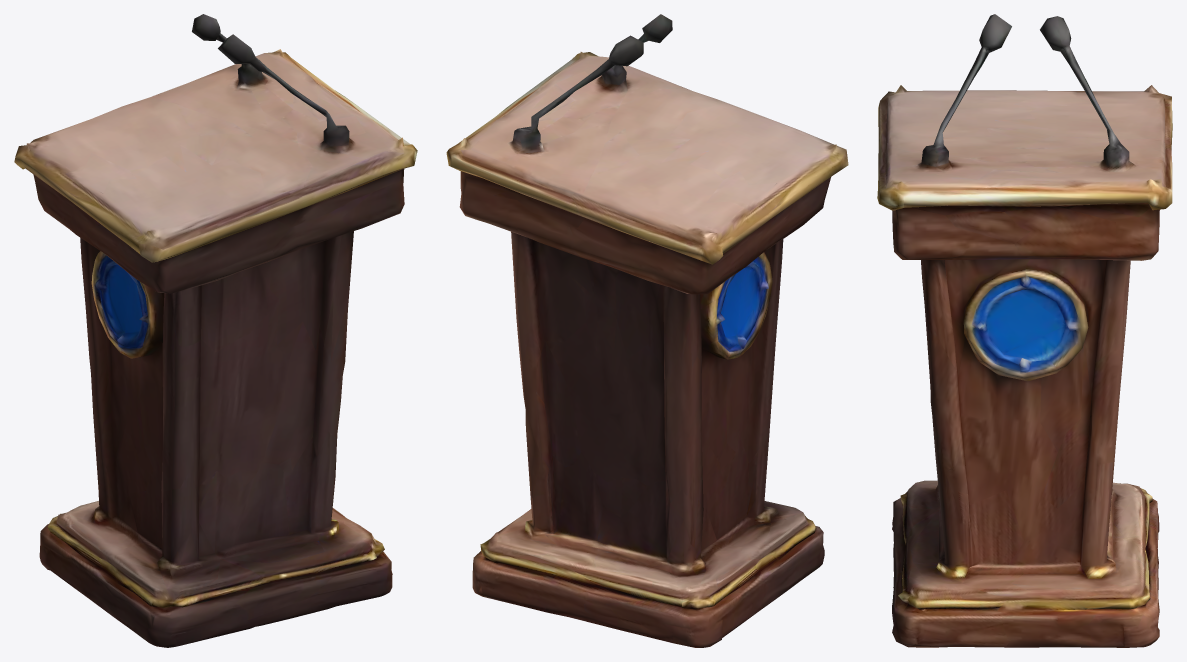
The model's file is podium.glb.
3 views of the same model, side by side, from view 1: azimuth 30°, elevation 25°; view 2: azimuth 150°, elevation 25°; view 3: azimuth 270°, elevation 25° (orthographic). The views are drawn at different scales.
Parts seen in each view (by area): view 1: tripo_node_3ab8cad9-2457-4b35-8295-33e71249b826; view 2: tripo_node_3ab8cad9-2457-4b35-8295-33e71249b826; view 3: tripo_node_3ab8cad9-2457-4b35-8295-33e71249b826.
Boxes of the visible parts, x1=… form: tripo_node_3ab8cad9-2457-4b35-8295-33e71249b826: x1=14, y1=14, x2=417, y2=647; tripo_node_3ab8cad9-2457-4b35-8295-33e71249b826: x1=446, y1=14, x2=848, y2=647; tripo_node_3ab8cad9-2457-4b35-8295-33e71249b826: x1=877, y1=14, x2=1172, y2=647.
Bounding box in the file's own units: 0.5255 × 1 × 0.4645.
Materials: 1 (1 with a texture image).
